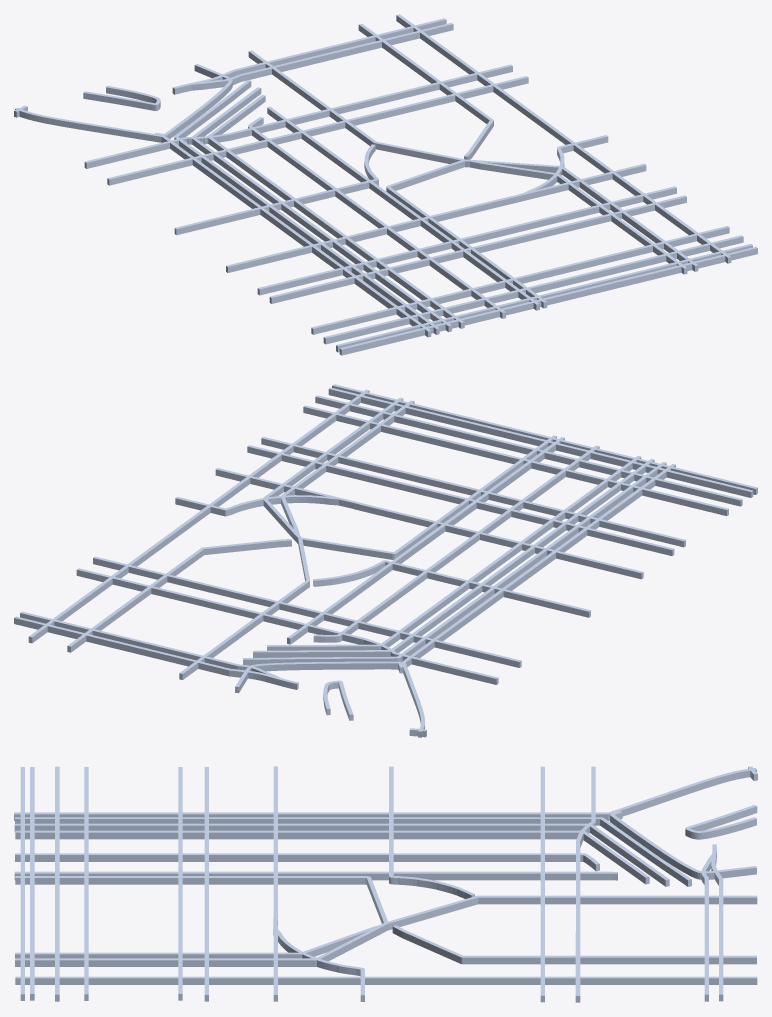
Rendered from input_01_major_roads_original.glb.
3 views of the same model, one above another, from view 1: azimuth 30°, elevation 25°; view 2: azimuth 150°, elevation 25°; view 3: azimuth 270°, elevation 25° (orthographic). The views are drawn at different scales.
Parts seen in each view (by area): view 1: world; view 2: world; view 3: world.
Part boxes in pixels (x1,y1,x2,y2): world: [14, 14, 757, 355]; world: [14, 384, 757, 737]; world: [14, 766, 757, 1002].
Bounding box in the file's own units: 73.35 × 1 × 101.
